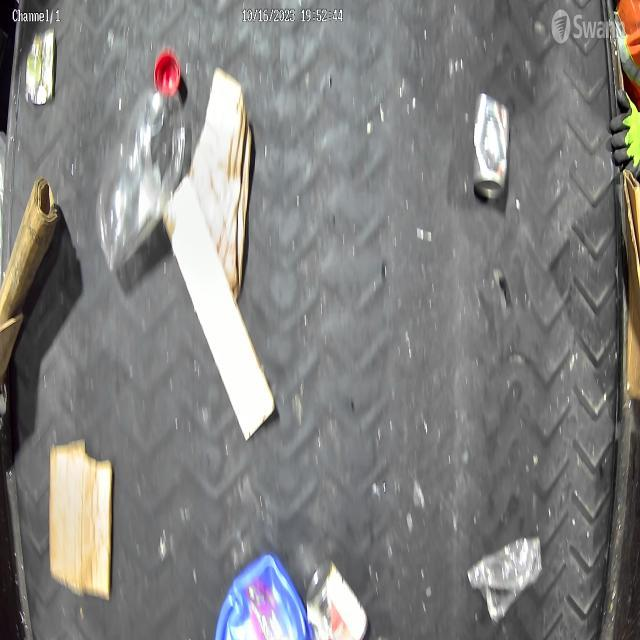can: (306, 556, 376, 640), (474, 92, 516, 207)
non_white_jug: (208, 541, 316, 640)
